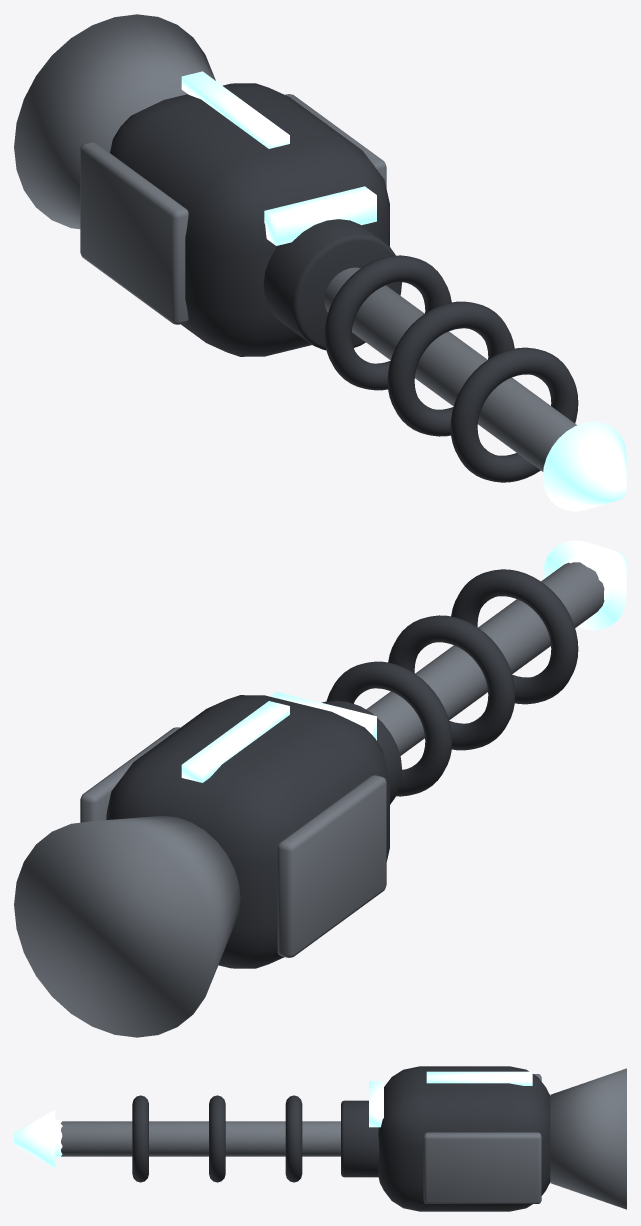
The model's file is weapon_drone_quasar.glb.
The picture shows the model from 3 angles, top to bottom: view 1: azimuth 30°, elevation 25°; view 2: azimuth 150°, elevation 25°; view 3: azimuth 270°, elevation 25°; orthographic projection. The views are drawn at different scales.
Parts seen in each view (by area): view 1: weapon_drone_quasar; view 2: weapon_drone_quasar; view 3: weapon_drone_quasar.
Boxes of the visible parts, x1=… form: weapon_drone_quasar: x1=14, y1=14, x2=626, y2=511; weapon_drone_quasar: x1=14, y1=540, x2=626, y2=1037; weapon_drone_quasar: x1=14, y1=1066, x2=626, y2=1211.
Bounding box in the file's own units: 0.51 × 0.48 × 2.08.
